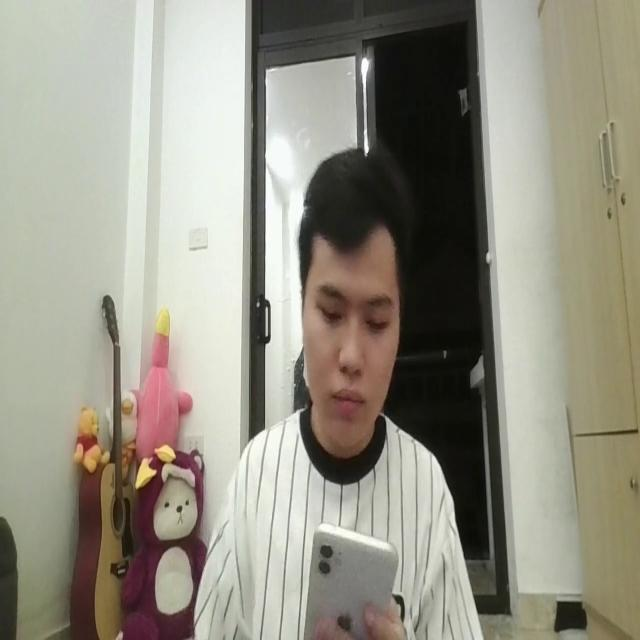phone: (301, 517, 399, 640)
student: (193, 143, 481, 640)
